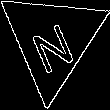N_NW: (26, 8, 79, 72)
